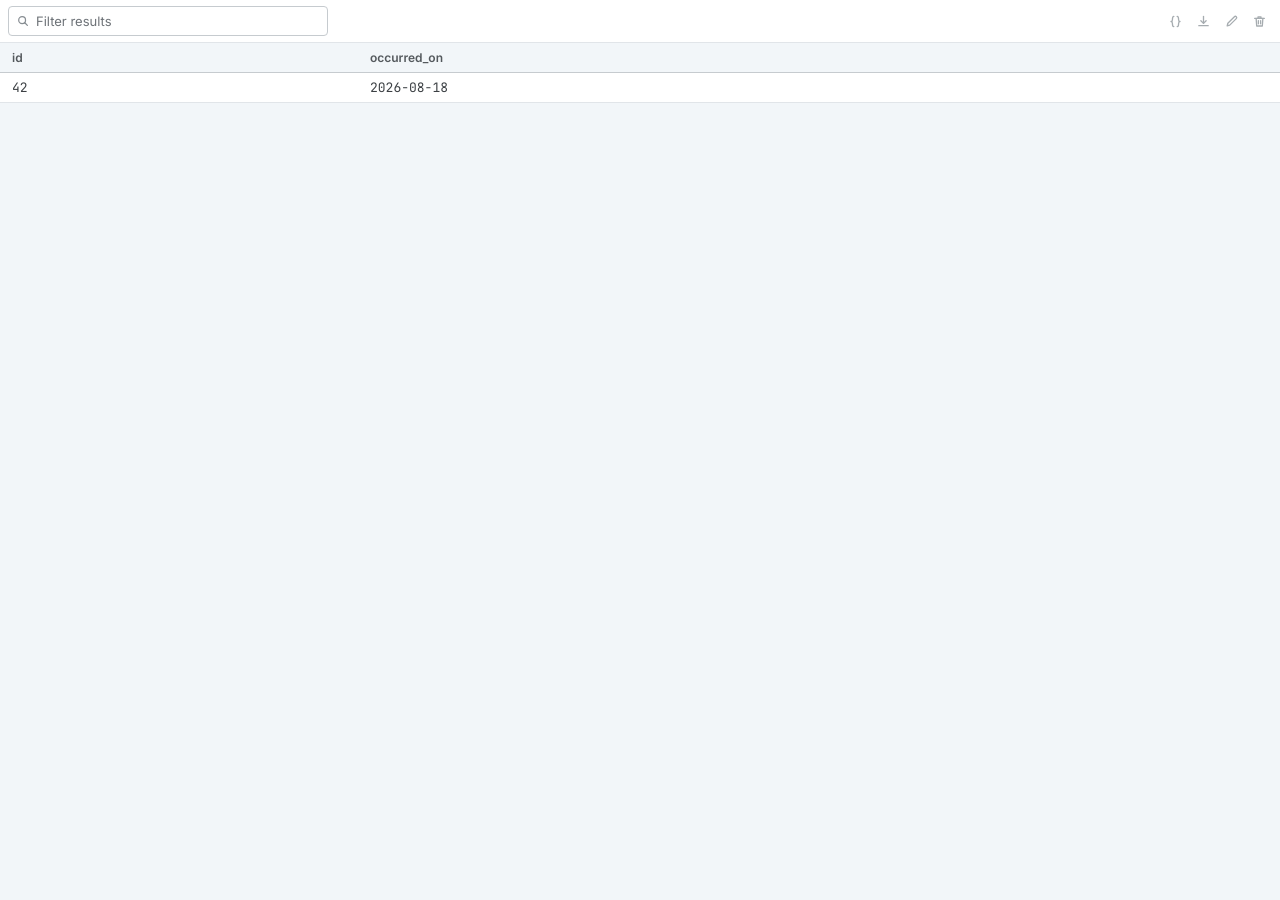
Test: QueryResultsPane › passes complete ColumnInfo metadata into the editor
Click the row "42 2026-08-18" at coordinates (640, 88), box x1=0 y1=73 x2=1279 y2=103
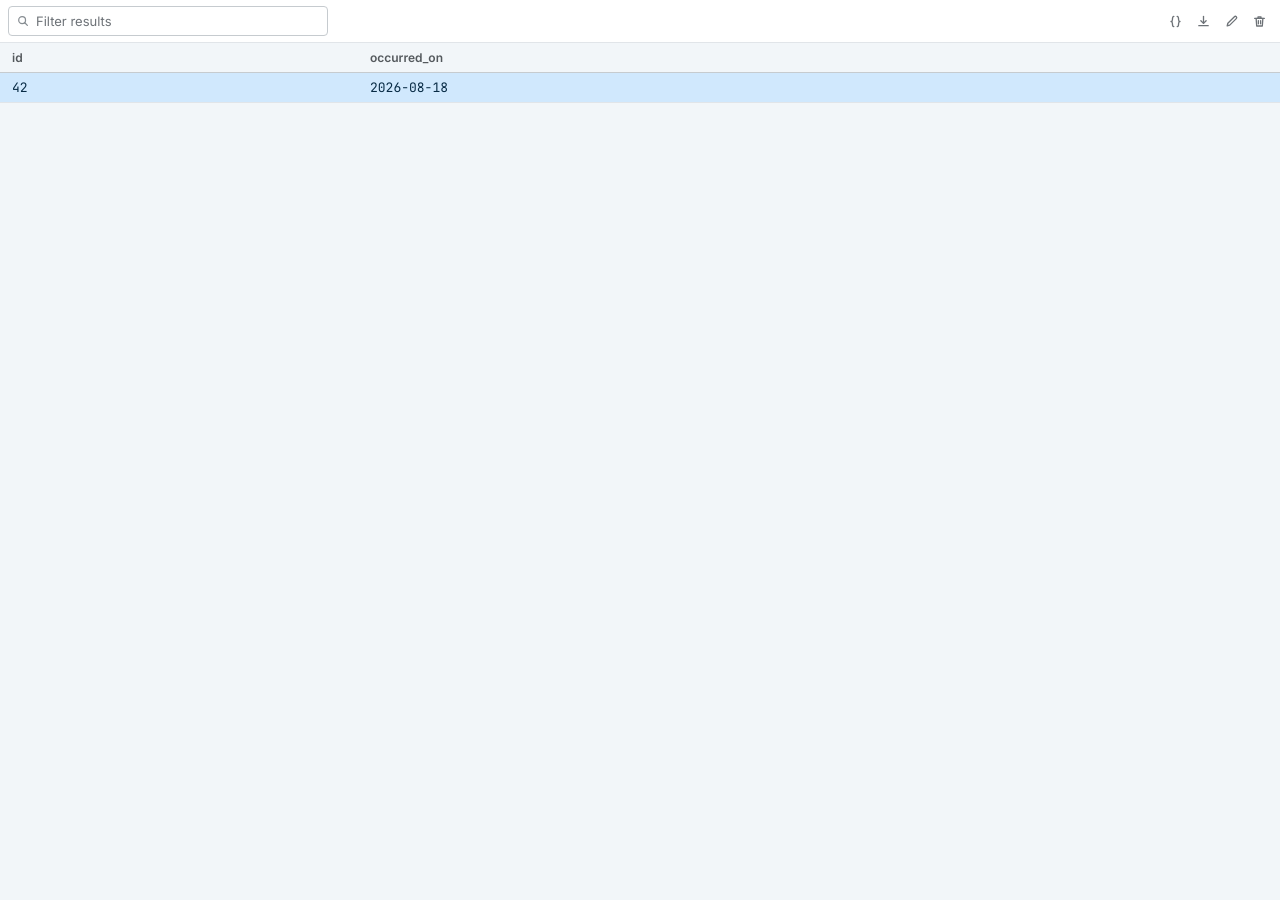
Click the button named "Edit" at coordinates (1231, 21), box x1=1218 y1=8 x2=1244 y2=34
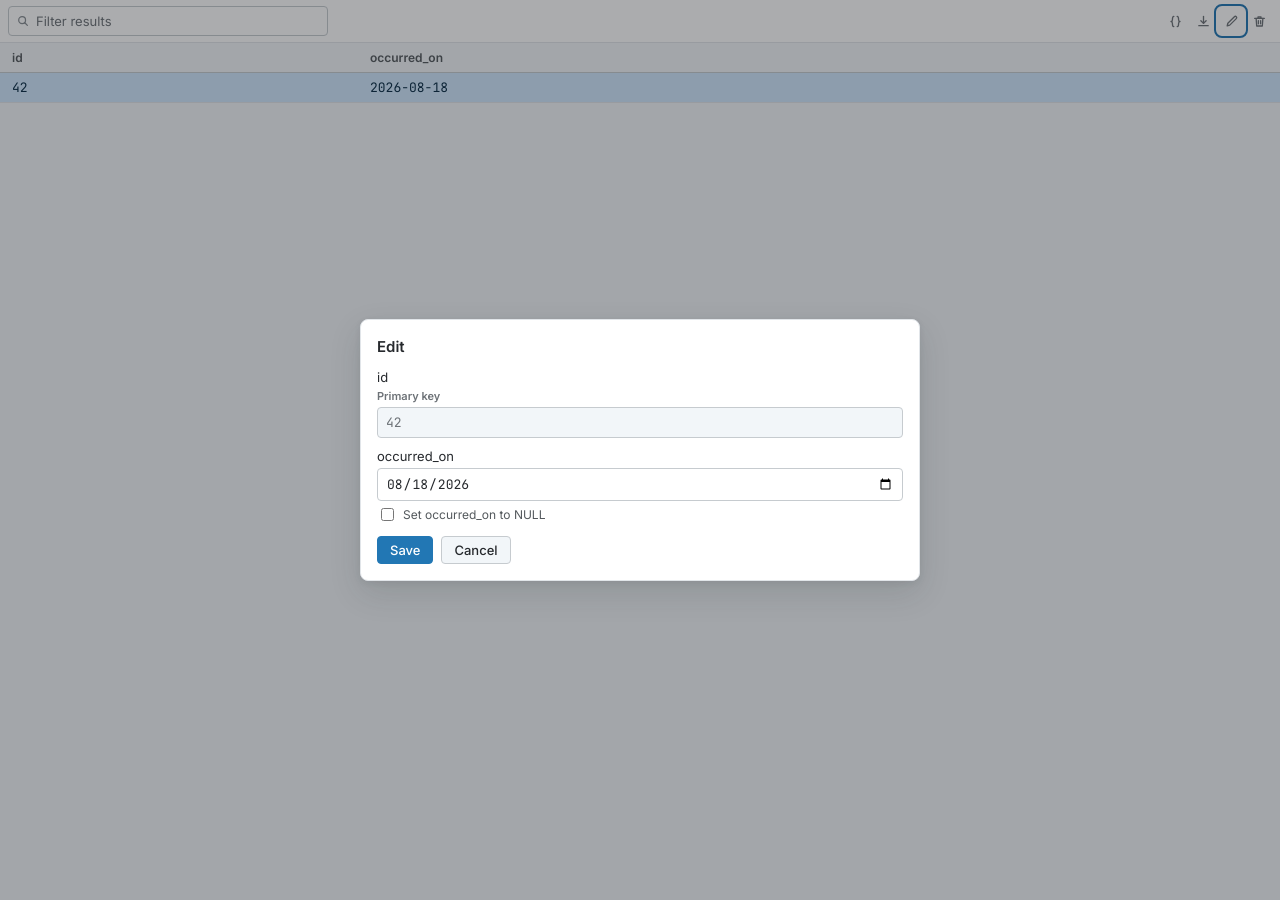
Now the field labelled "id" is disabled, box x1=377 y1=407 x2=903 y2=438
